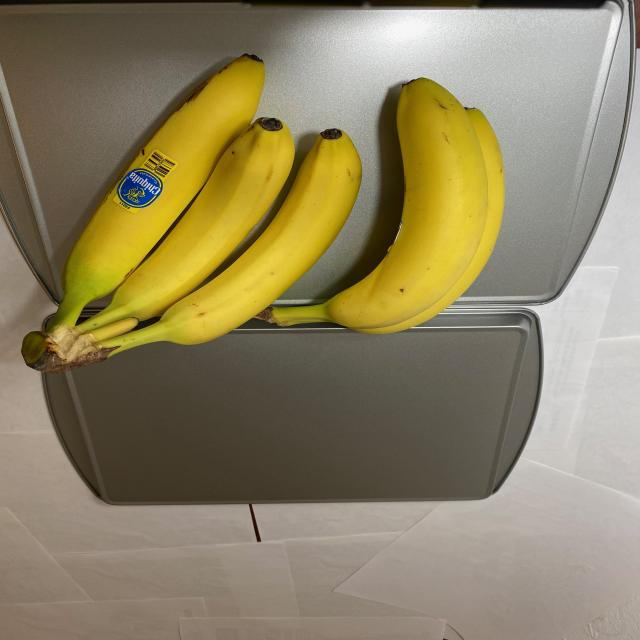banana: (16, 50, 512, 374)
